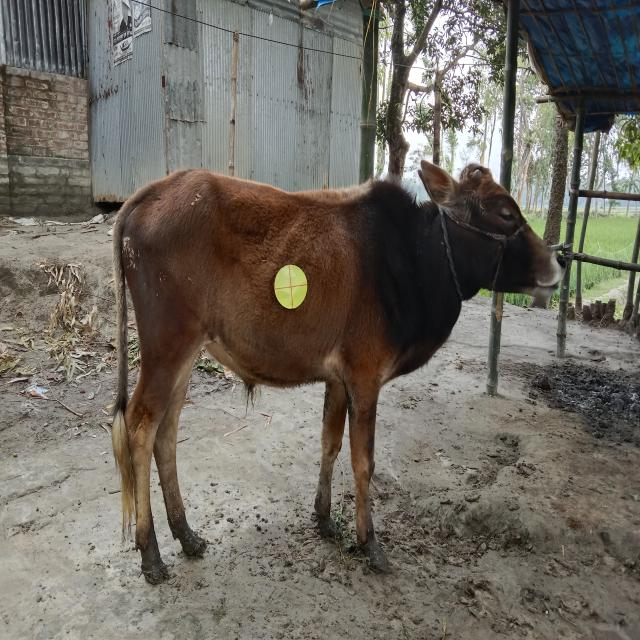badan_sapi: (131, 187, 384, 386)
sapi: (91, 136, 576, 596)
